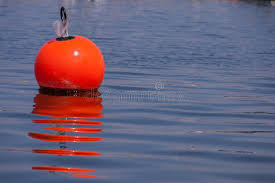buoy: (34, 35, 105, 91)
